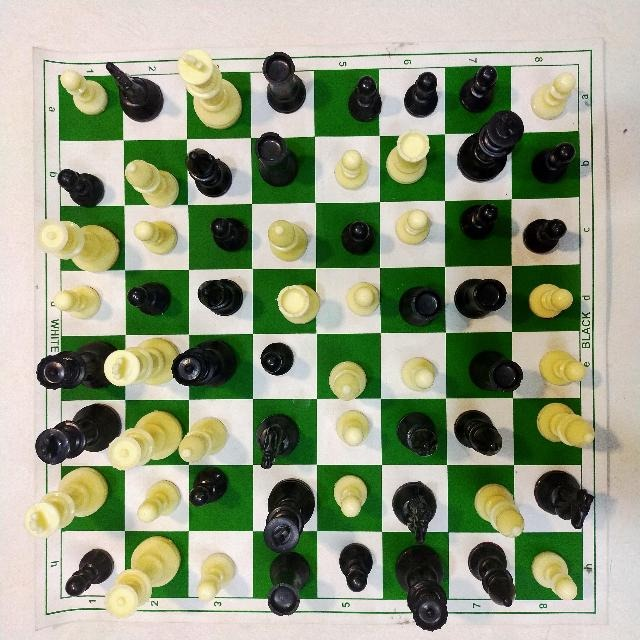black-bishop: (462, 540, 521, 614), (449, 404, 509, 456), (188, 141, 231, 202), (189, 271, 245, 315), (394, 406, 441, 458)
black-king: (450, 106, 525, 186), (30, 401, 122, 464), (256, 476, 318, 552)
black-knight: (105, 58, 171, 128), (531, 466, 596, 527), (387, 476, 439, 537), (259, 412, 303, 473)
black-pawn: (56, 545, 113, 605), (53, 162, 105, 214), (450, 195, 502, 241), (518, 210, 568, 257), (527, 139, 577, 185), (458, 63, 499, 119), (182, 464, 233, 509), (338, 211, 382, 262), (398, 64, 441, 115), (337, 540, 376, 594), (344, 73, 383, 125), (127, 277, 174, 320), (254, 337, 302, 379), (208, 213, 252, 257)
black-queen: (394, 544, 450, 636), (32, 334, 116, 395), (172, 336, 240, 388)
black-rook: (262, 547, 317, 620), (463, 343, 528, 397), (261, 48, 304, 119), (450, 271, 508, 323), (254, 128, 297, 189), (399, 280, 443, 329)
white-bishop: (534, 393, 601, 460), (472, 474, 532, 543), (175, 411, 233, 465), (125, 151, 179, 206), (265, 205, 314, 265), (328, 357, 376, 405)
white-king: (22, 465, 112, 539), (180, 45, 246, 132), (102, 334, 180, 392)
white-pawn: (528, 547, 584, 608), (57, 66, 115, 121), (192, 545, 241, 603), (528, 66, 577, 121), (133, 476, 183, 523), (538, 347, 589, 393), (330, 469, 373, 521), (50, 281, 102, 323), (527, 279, 574, 323), (130, 217, 182, 255), (397, 346, 439, 393), (344, 272, 382, 320), (330, 146, 372, 188), (335, 406, 377, 446), (394, 204, 432, 248)
white-queen: (100, 529, 184, 622), (102, 400, 181, 471), (39, 215, 120, 275)
white-rook: (384, 127, 432, 191), (275, 278, 323, 326)
